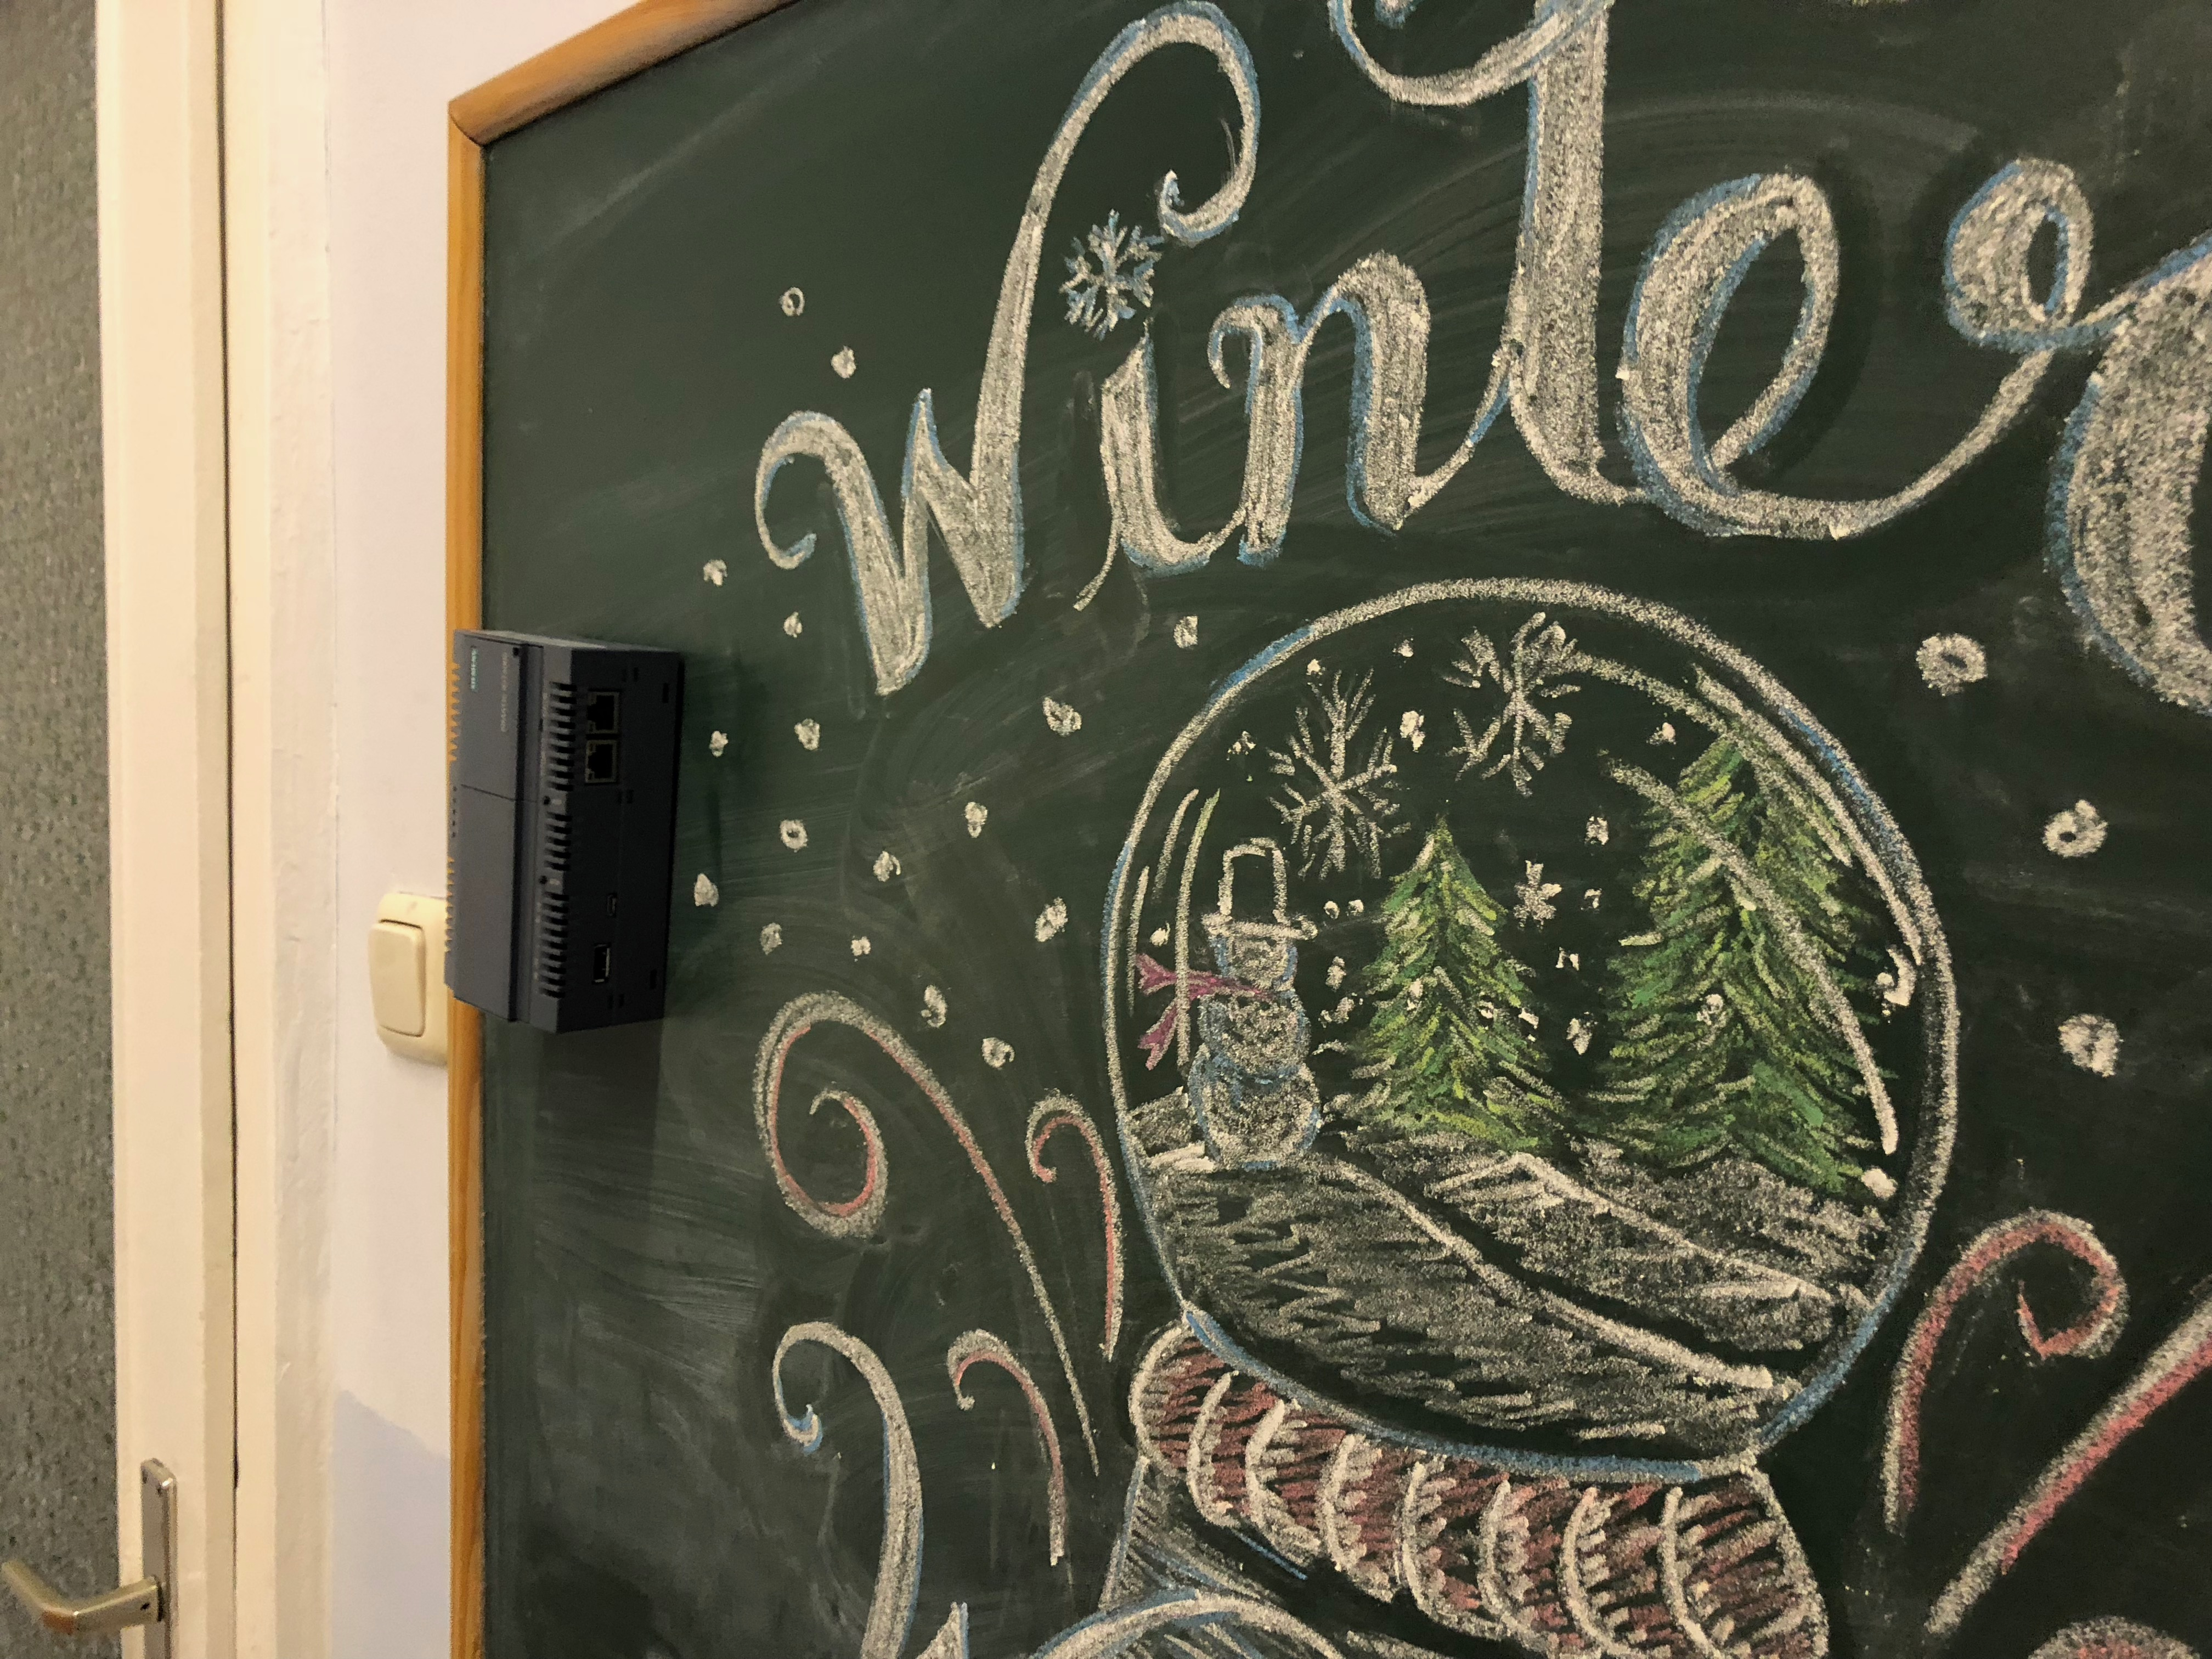device: (444, 629, 681, 1033)
